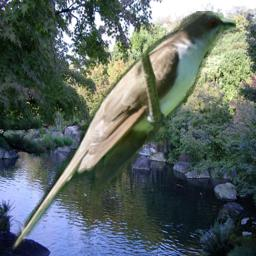Cuckoo: (9, 11, 236, 253)
